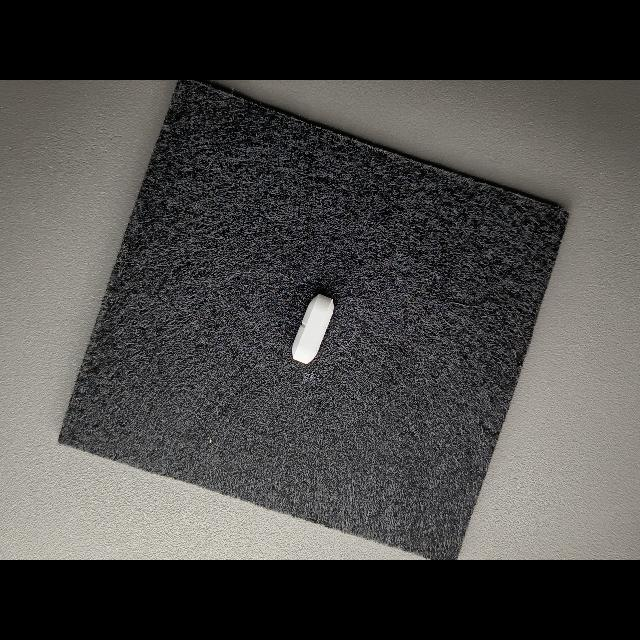Intact Pill: (292, 294, 334, 364)
